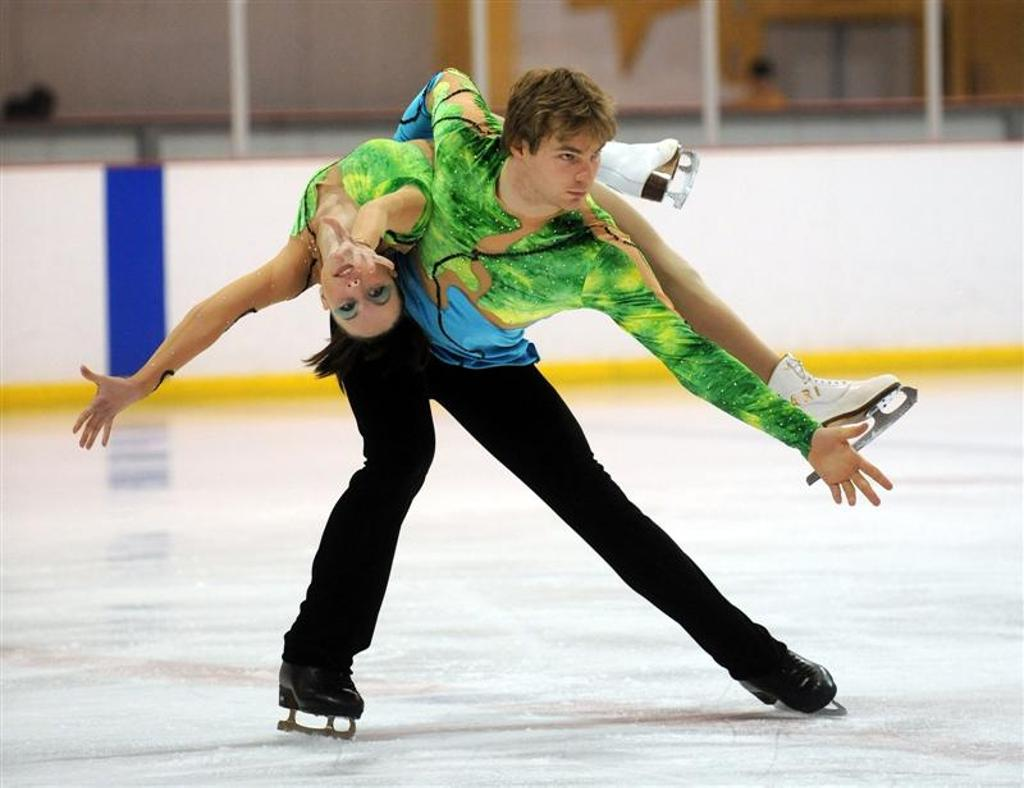face: (322, 240, 402, 342), (530, 118, 600, 208)
